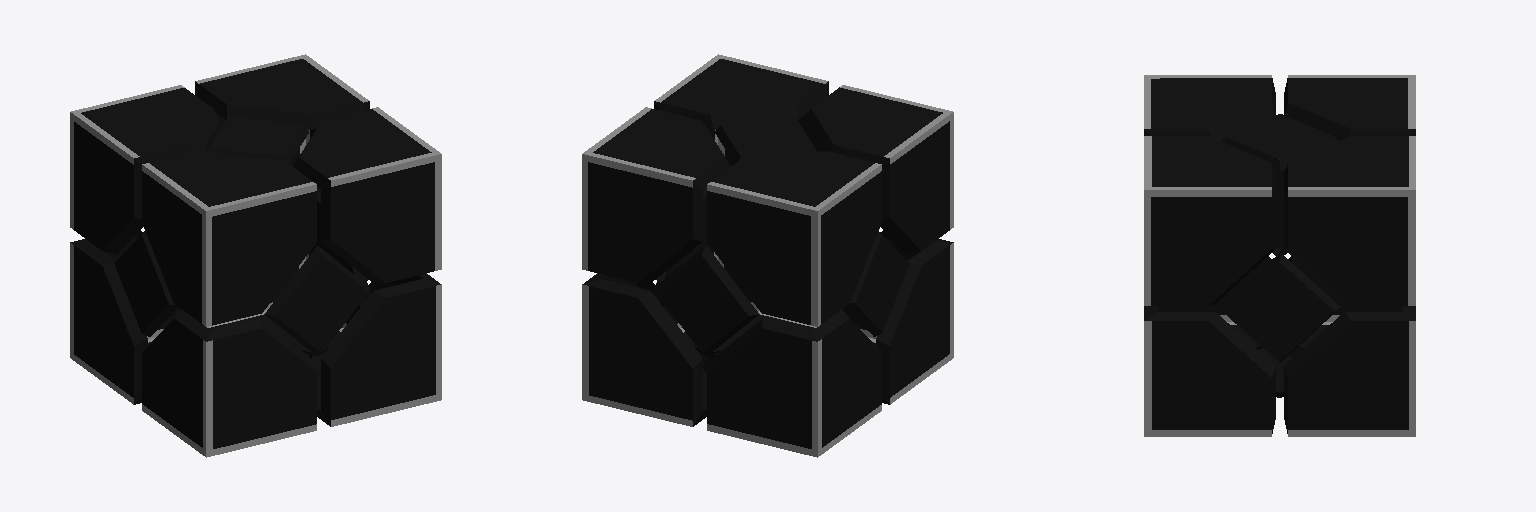
3 renders of one model, left to right at view 1: azimuth 30°, elevation 25°; view 2: azimuth 150°, elevation 25°; view 3: azimuth 270°, elevation 25°, orthographic.
Visible parts, largest first — view 1: Shell_立方体.005; view 2: Shell_立方体.005; view 3: Shell_立方体.005.
Part boxes in pixels (bbox=[...]): Shell_立方体.005: bbox=[70, 54, 441, 457]; Shell_立方体.005: bbox=[582, 54, 953, 457]; Shell_立方体.005: bbox=[1144, 75, 1415, 436].
Size of the model in its own units: 2 by 2 by 2.
Materials: 1 (1 with a texture image).